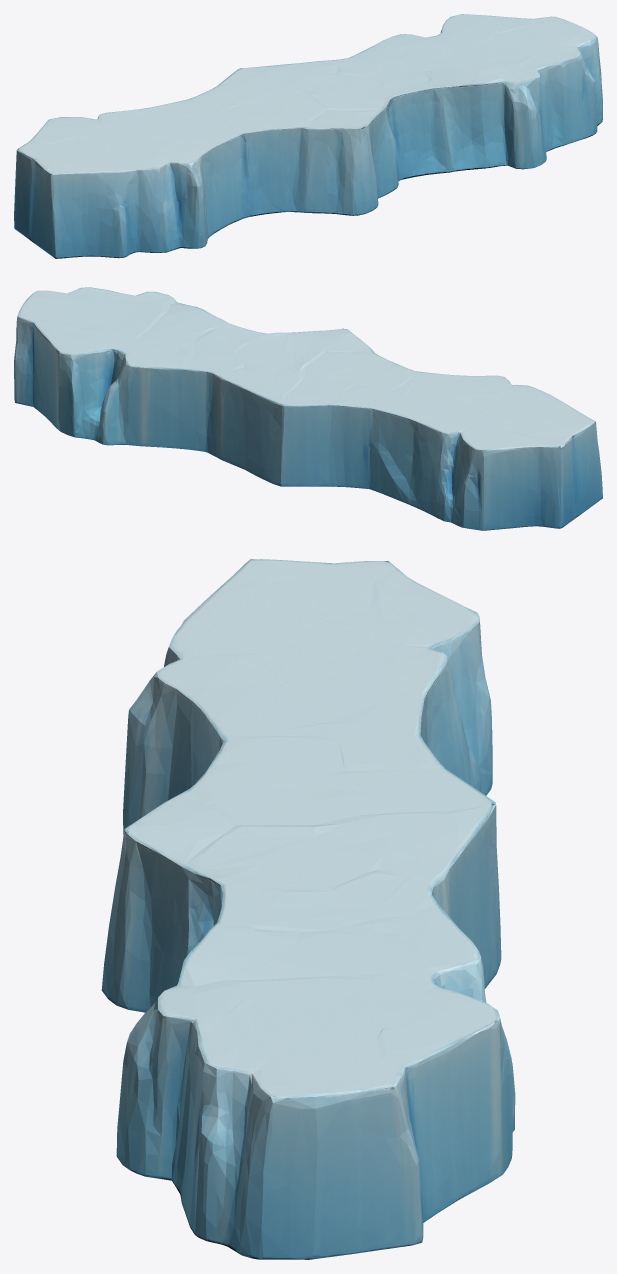
File: iceberg_low.glb
3 views of the same model, one above another, from view 1: azimuth 30°, elevation 25°; view 2: azimuth 150°, elevation 25°; view 3: azimuth 270°, elevation 25° (orthographic). The views are drawn at different scales.
Parts seen in each view (by area): view 1: world; view 2: world; view 3: world.
Part boxes in pixels (left/top/right/bottom): world: left=14, top=14, right=602, bottom=258; world: left=14, top=287, right=602, bottom=530; world: left=101, top=559, right=515, bottom=1259.
Size of the model in its own units: 0.9992 by 0.1408 by 0.3218.
Materials: 1 (1 with a texture image).
